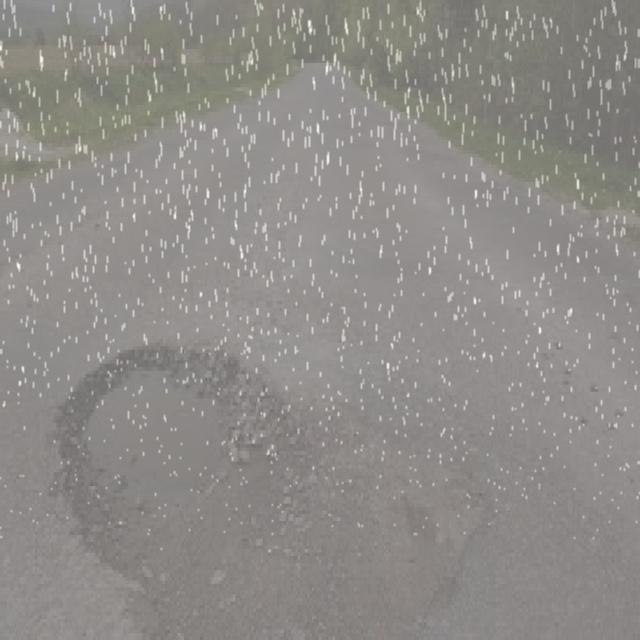Pothole: (46, 330, 328, 611)
